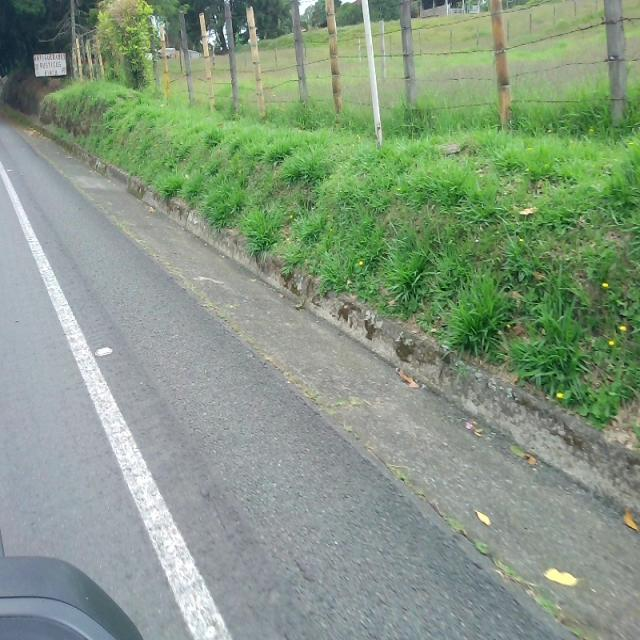DITCH: (2, 3, 637, 638), (2, 115, 638, 638), (2, 119, 638, 638)
